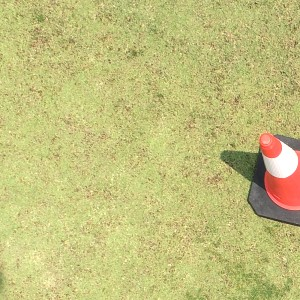traffic cone: (247, 132, 300, 225)
